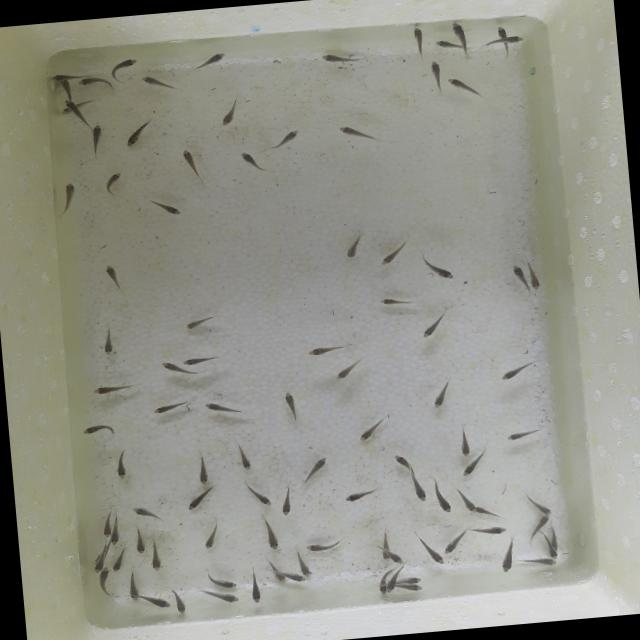fingerling: (416, 251, 459, 287), (425, 373, 464, 412), (121, 114, 161, 150), (52, 177, 85, 220), (84, 376, 144, 399), (174, 146, 208, 186), (445, 73, 489, 103), (139, 192, 185, 220), (418, 306, 453, 342), (352, 414, 391, 445), (264, 124, 304, 154), (242, 474, 275, 510), (214, 90, 243, 130), (300, 453, 334, 486), (234, 148, 274, 176), (99, 260, 128, 297), (301, 340, 354, 360), (304, 532, 348, 556), (374, 241, 410, 270), (338, 228, 367, 264), (203, 564, 240, 592), (329, 356, 366, 384), (137, 71, 182, 94), (497, 358, 539, 382), (334, 120, 376, 144), (187, 50, 230, 73), (200, 397, 246, 418), (274, 479, 298, 519), (260, 515, 284, 555), (96, 169, 128, 199), (96, 322, 121, 360), (318, 49, 367, 68), (74, 420, 120, 440), (108, 448, 134, 483), (522, 487, 552, 517), (148, 398, 193, 418), (370, 292, 420, 310), (408, 24, 430, 64), (429, 479, 453, 515), (198, 520, 224, 553), (494, 540, 518, 575), (179, 312, 221, 332), (406, 470, 430, 504), (420, 536, 445, 568), (246, 567, 266, 607), (202, 587, 242, 607), (184, 487, 216, 512), (108, 56, 140, 81), (341, 484, 380, 504), (140, 590, 172, 614), (232, 440, 256, 472), (280, 389, 302, 423), (508, 262, 530, 296), (146, 537, 166, 574), (440, 530, 468, 556), (132, 502, 165, 524), (87, 124, 106, 160), (458, 455, 487, 478), (454, 422, 473, 457), (503, 426, 542, 443), (426, 58, 444, 94), (470, 522, 510, 538), (180, 352, 220, 368), (130, 522, 148, 556), (457, 486, 478, 515), (170, 588, 190, 617), (195, 452, 212, 486), (527, 258, 544, 292), (125, 568, 141, 602), (78, 76, 110, 90), (520, 558, 558, 569), (451, 21, 468, 44), (432, 36, 454, 53), (392, 452, 412, 470), (98, 514, 112, 538), (160, 358, 180, 374), (110, 552, 124, 573), (532, 514, 550, 528), (390, 550, 405, 566), (508, 32, 525, 46), (50, 73, 73, 83), (492, 25, 508, 38), (61, 98, 76, 110), (108, 534, 121, 547), (384, 580, 396, 594), (300, 563, 312, 577), (408, 582, 423, 593), (376, 581, 387, 596), (101, 566, 112, 581), (406, 575, 422, 584), (546, 547, 558, 559), (91, 560, 102, 573), (294, 574, 306, 584), (276, 574, 288, 583), (60, 108, 72, 116)
